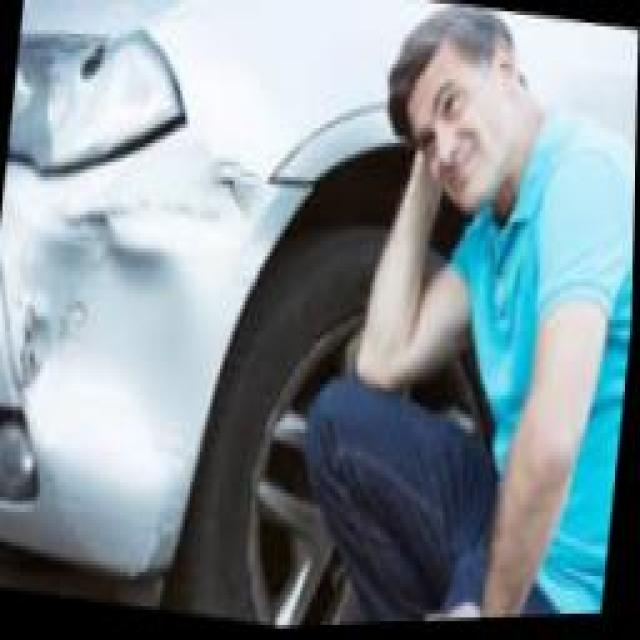Bumper: (6, 170, 309, 399)
Light: (17, 31, 180, 169)
